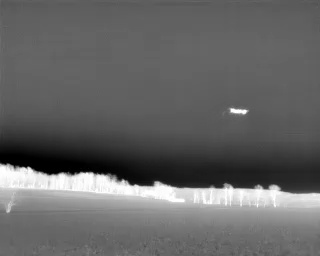DRONE: (224, 102, 252, 121)
